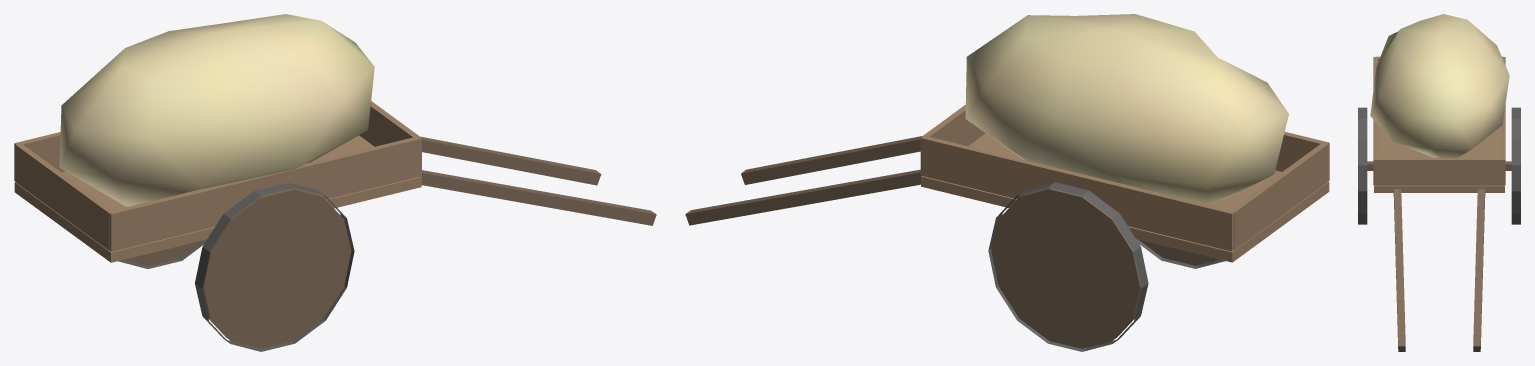
File: SM_BM_BE_HayCart.glb
The picture shows the model from 3 angles, left to right: view 1: azimuth 30°, elevation 25°; view 2: azimuth 150°, elevation 25°; view 3: azimuth 270°, elevation 25°; orthographic projection. The views are drawn at different scales.
Visible parts, largest first — view 1: SM_BM_BE_HayCart; view 2: SM_BM_BE_HayCart; view 3: SM_BM_BE_HayCart.
Boxes of the visible parts, <box> form: SM_BM_BE_HayCart: <box>14,14,656,351</box>; SM_BM_BE_HayCart: <box>685,14,1329,351</box>; SM_BM_BE_HayCart: <box>1358,14,1520,351</box>.
Bounding box in the file's own units: 4.72 × 2.17 × 1.74.
